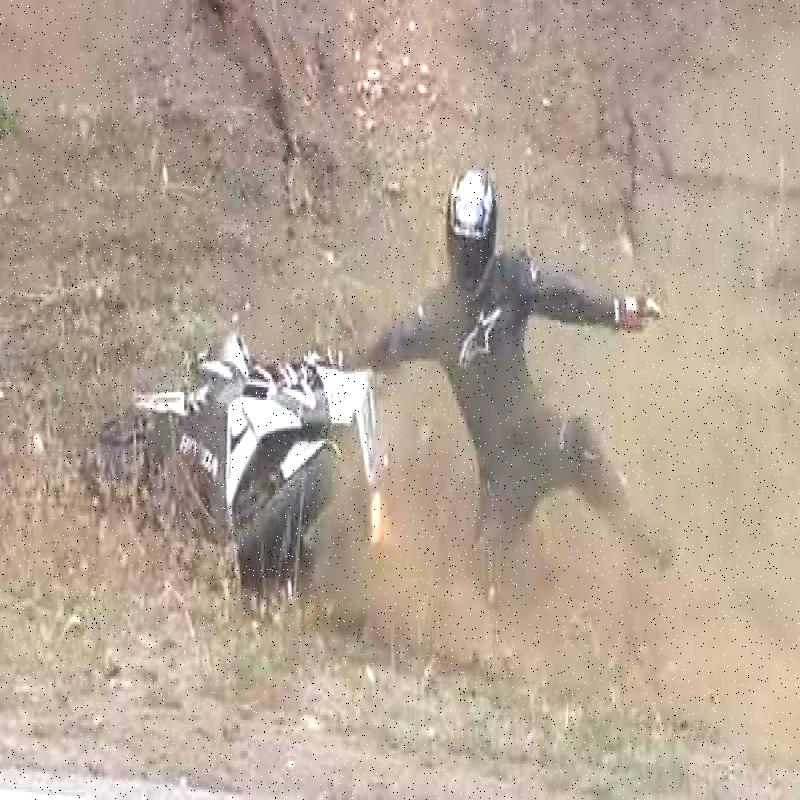bike: (123, 306, 384, 581)
